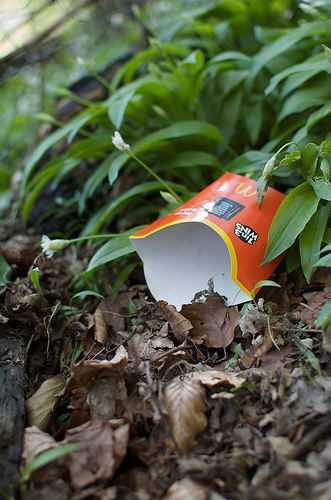litter: (127, 170, 289, 307)
